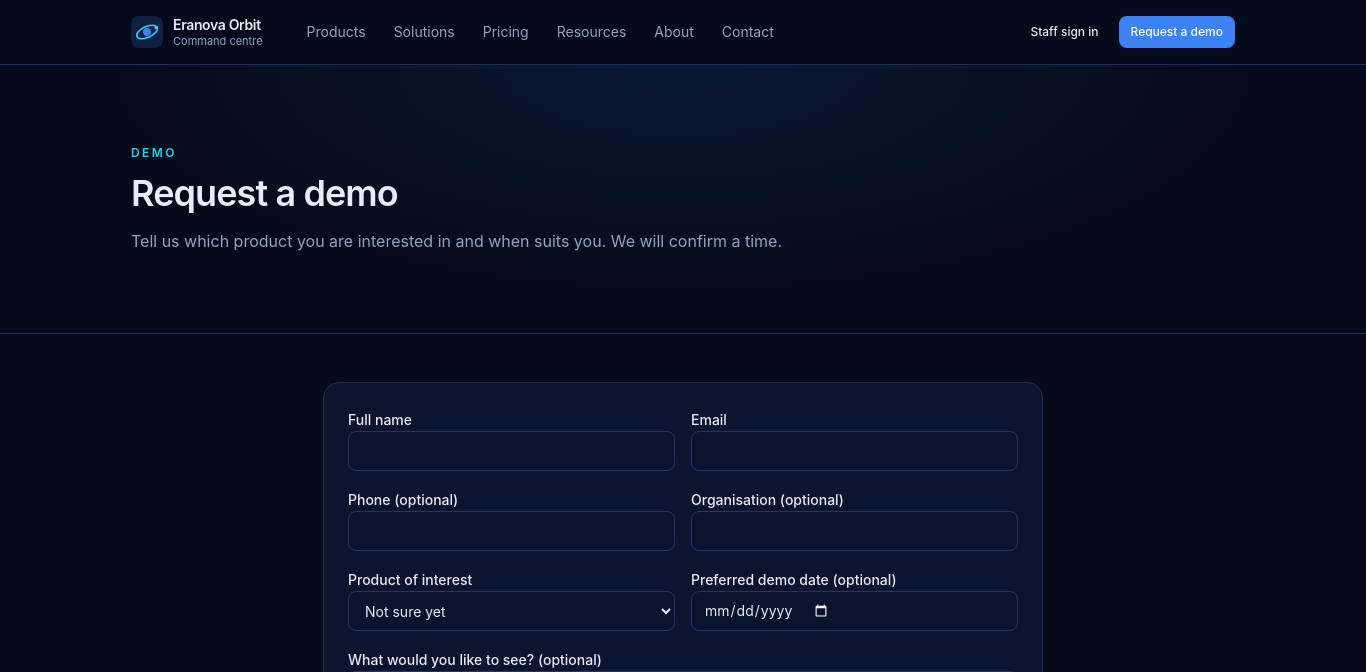
public marketplace › shows rate-limit errors from the API
The image size is (1366, 672).
Step 1. Type "Visitor" into the field labelled "Full name" → (512,451), box x1=348 y1=431 x2=675 y2=471
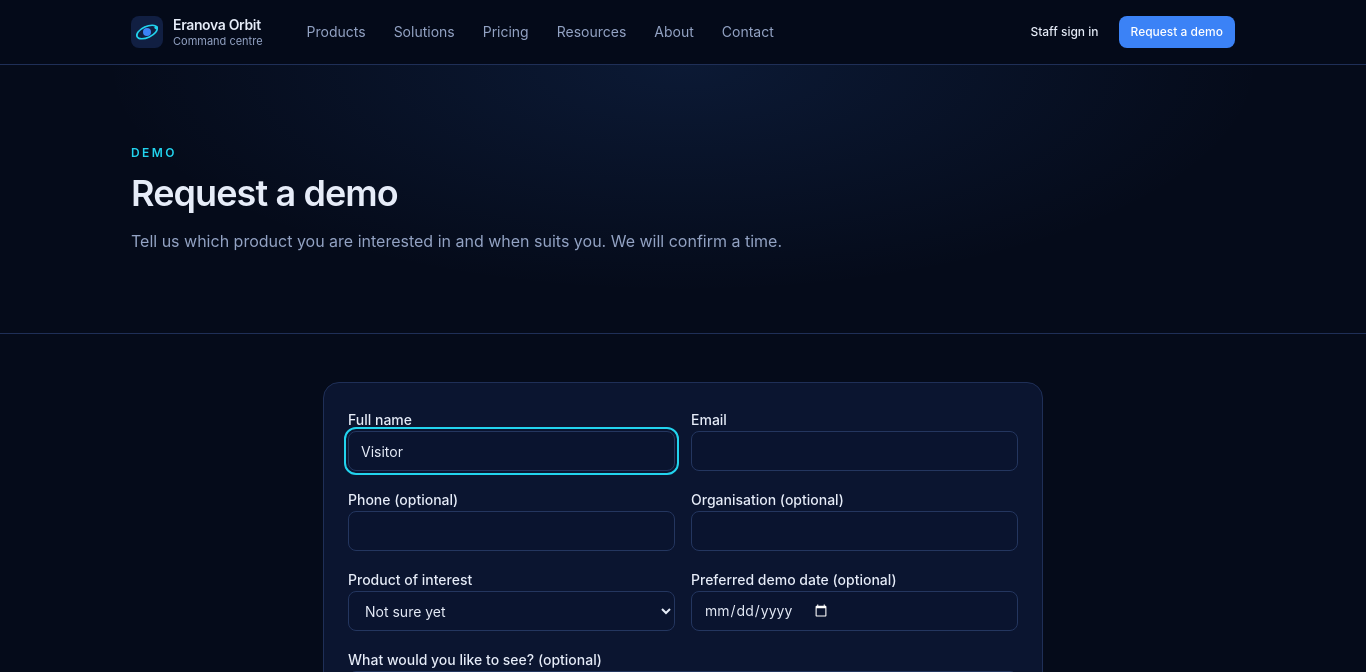
Step 2. Type "v@example.com" into the field labelled "Email" → (854,451), box x1=691 y1=431 x2=1018 y2=471
(page scrolled)
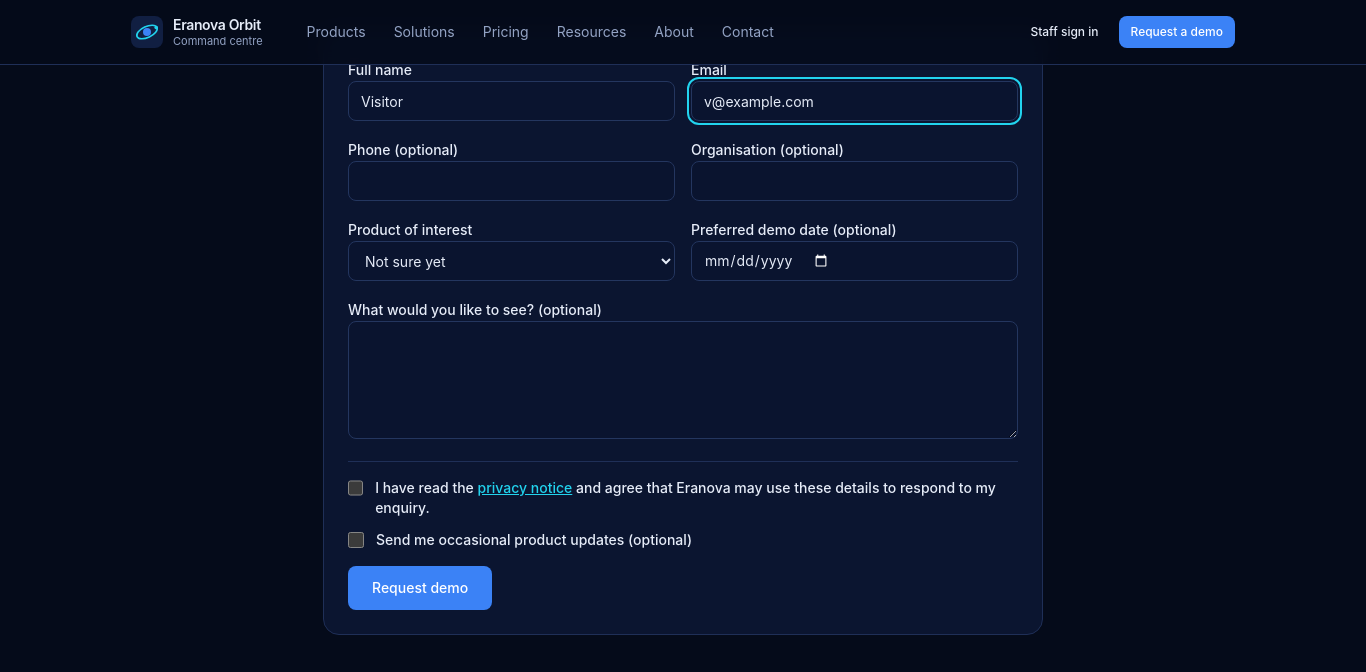
Step 3. Click the checkbox labelled "privacy notice" → (356,488), box x1=348 y1=480 x2=363 y2=496
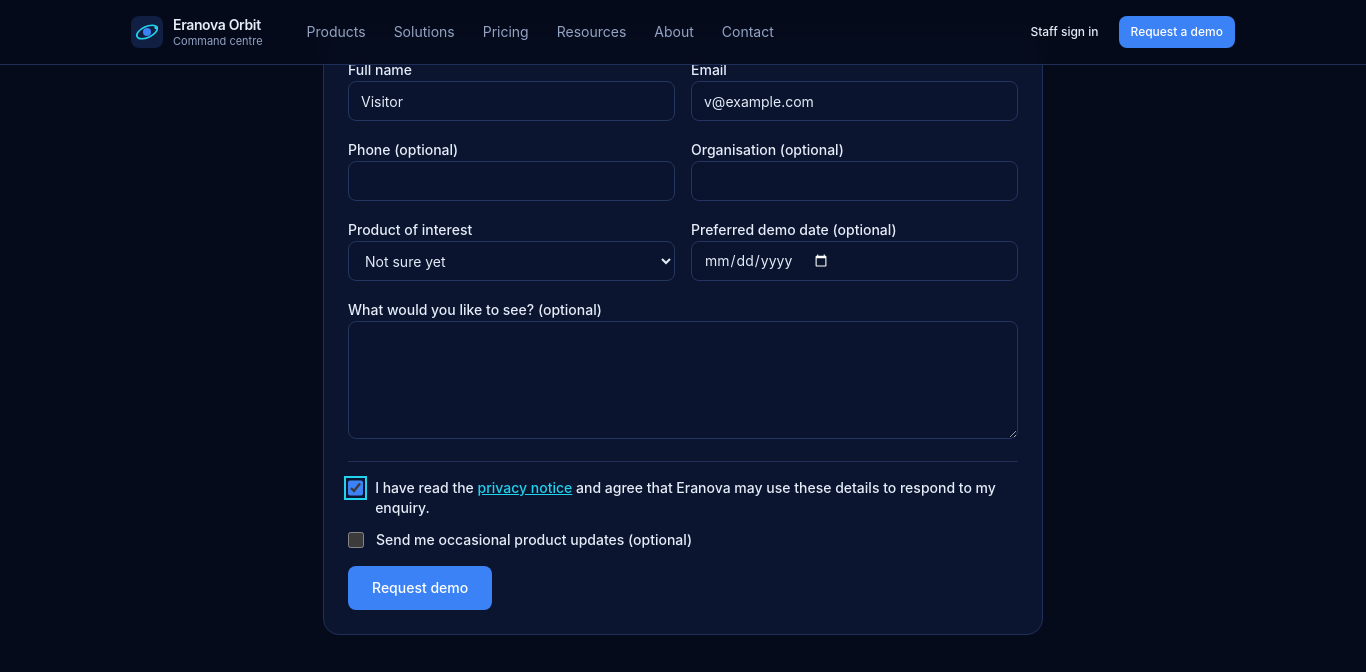
Step 4. Click the button "Request demo" → (420,588), box x1=348 y1=566 x2=492 y2=610
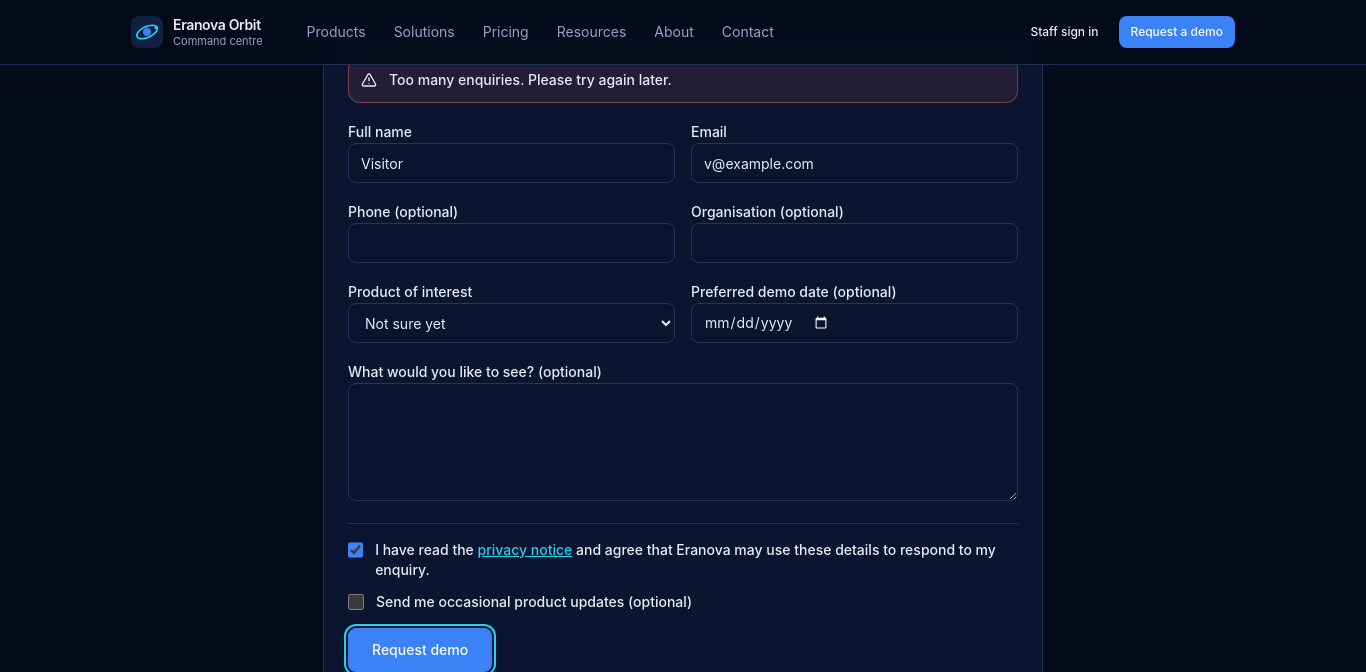
Now the message shows "Too many enquiries", box x1=389 y1=71 x2=672 y2=88
